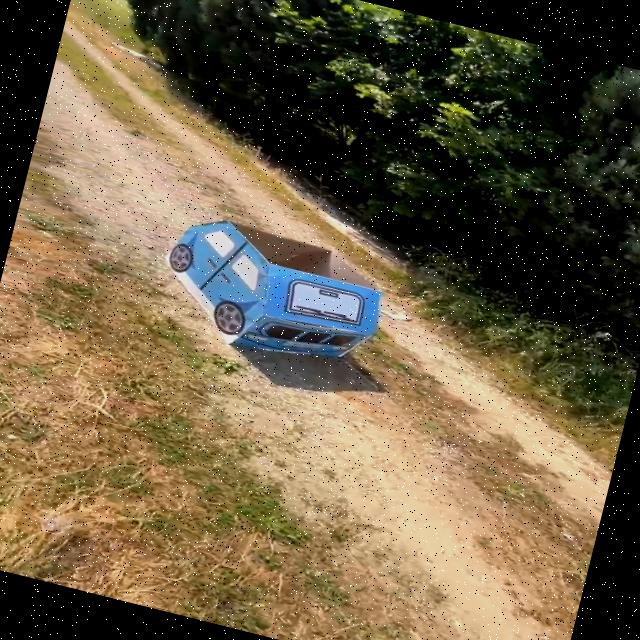blue_car: (134, 185, 406, 397)
